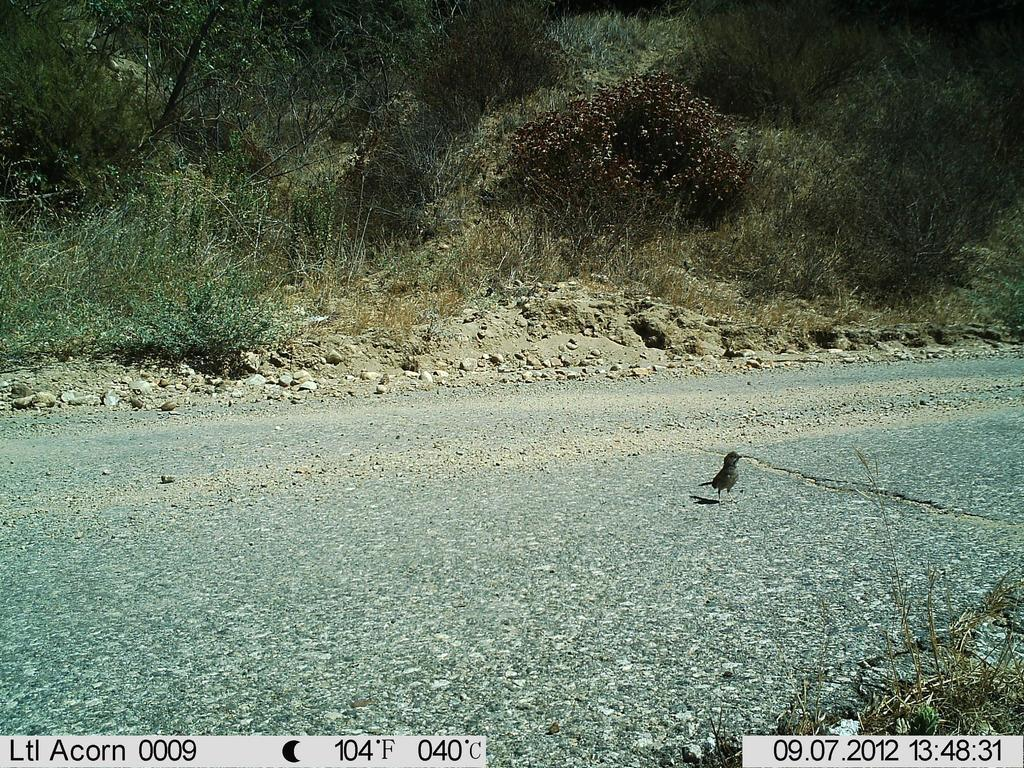bird: (698, 437, 754, 505)
